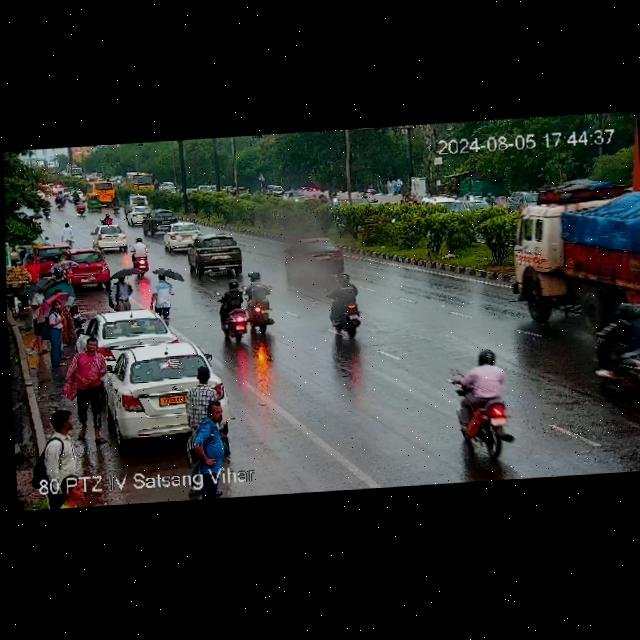car: (97, 342, 220, 441), (89, 309, 172, 352), (186, 232, 252, 278), (283, 234, 345, 277), (64, 251, 110, 287), (162, 221, 207, 250), (92, 221, 125, 251), (85, 178, 119, 207), (120, 170, 160, 193), (36, 243, 70, 269), (140, 208, 171, 235), (125, 204, 158, 226)
motorcycle: (205, 269, 280, 343), (443, 350, 509, 434), (585, 303, 640, 389), (322, 269, 366, 340), (128, 235, 150, 274), (71, 197, 90, 218)
person: (184, 398, 243, 500), (68, 333, 103, 438), (34, 409, 79, 489), (186, 363, 217, 420), (149, 271, 179, 323), (55, 474, 93, 508), (48, 300, 66, 362), (31, 286, 47, 352), (112, 272, 133, 311), (25, 255, 39, 281), (61, 221, 73, 249), (50, 267, 63, 283)
truck: (507, 191, 640, 328)
